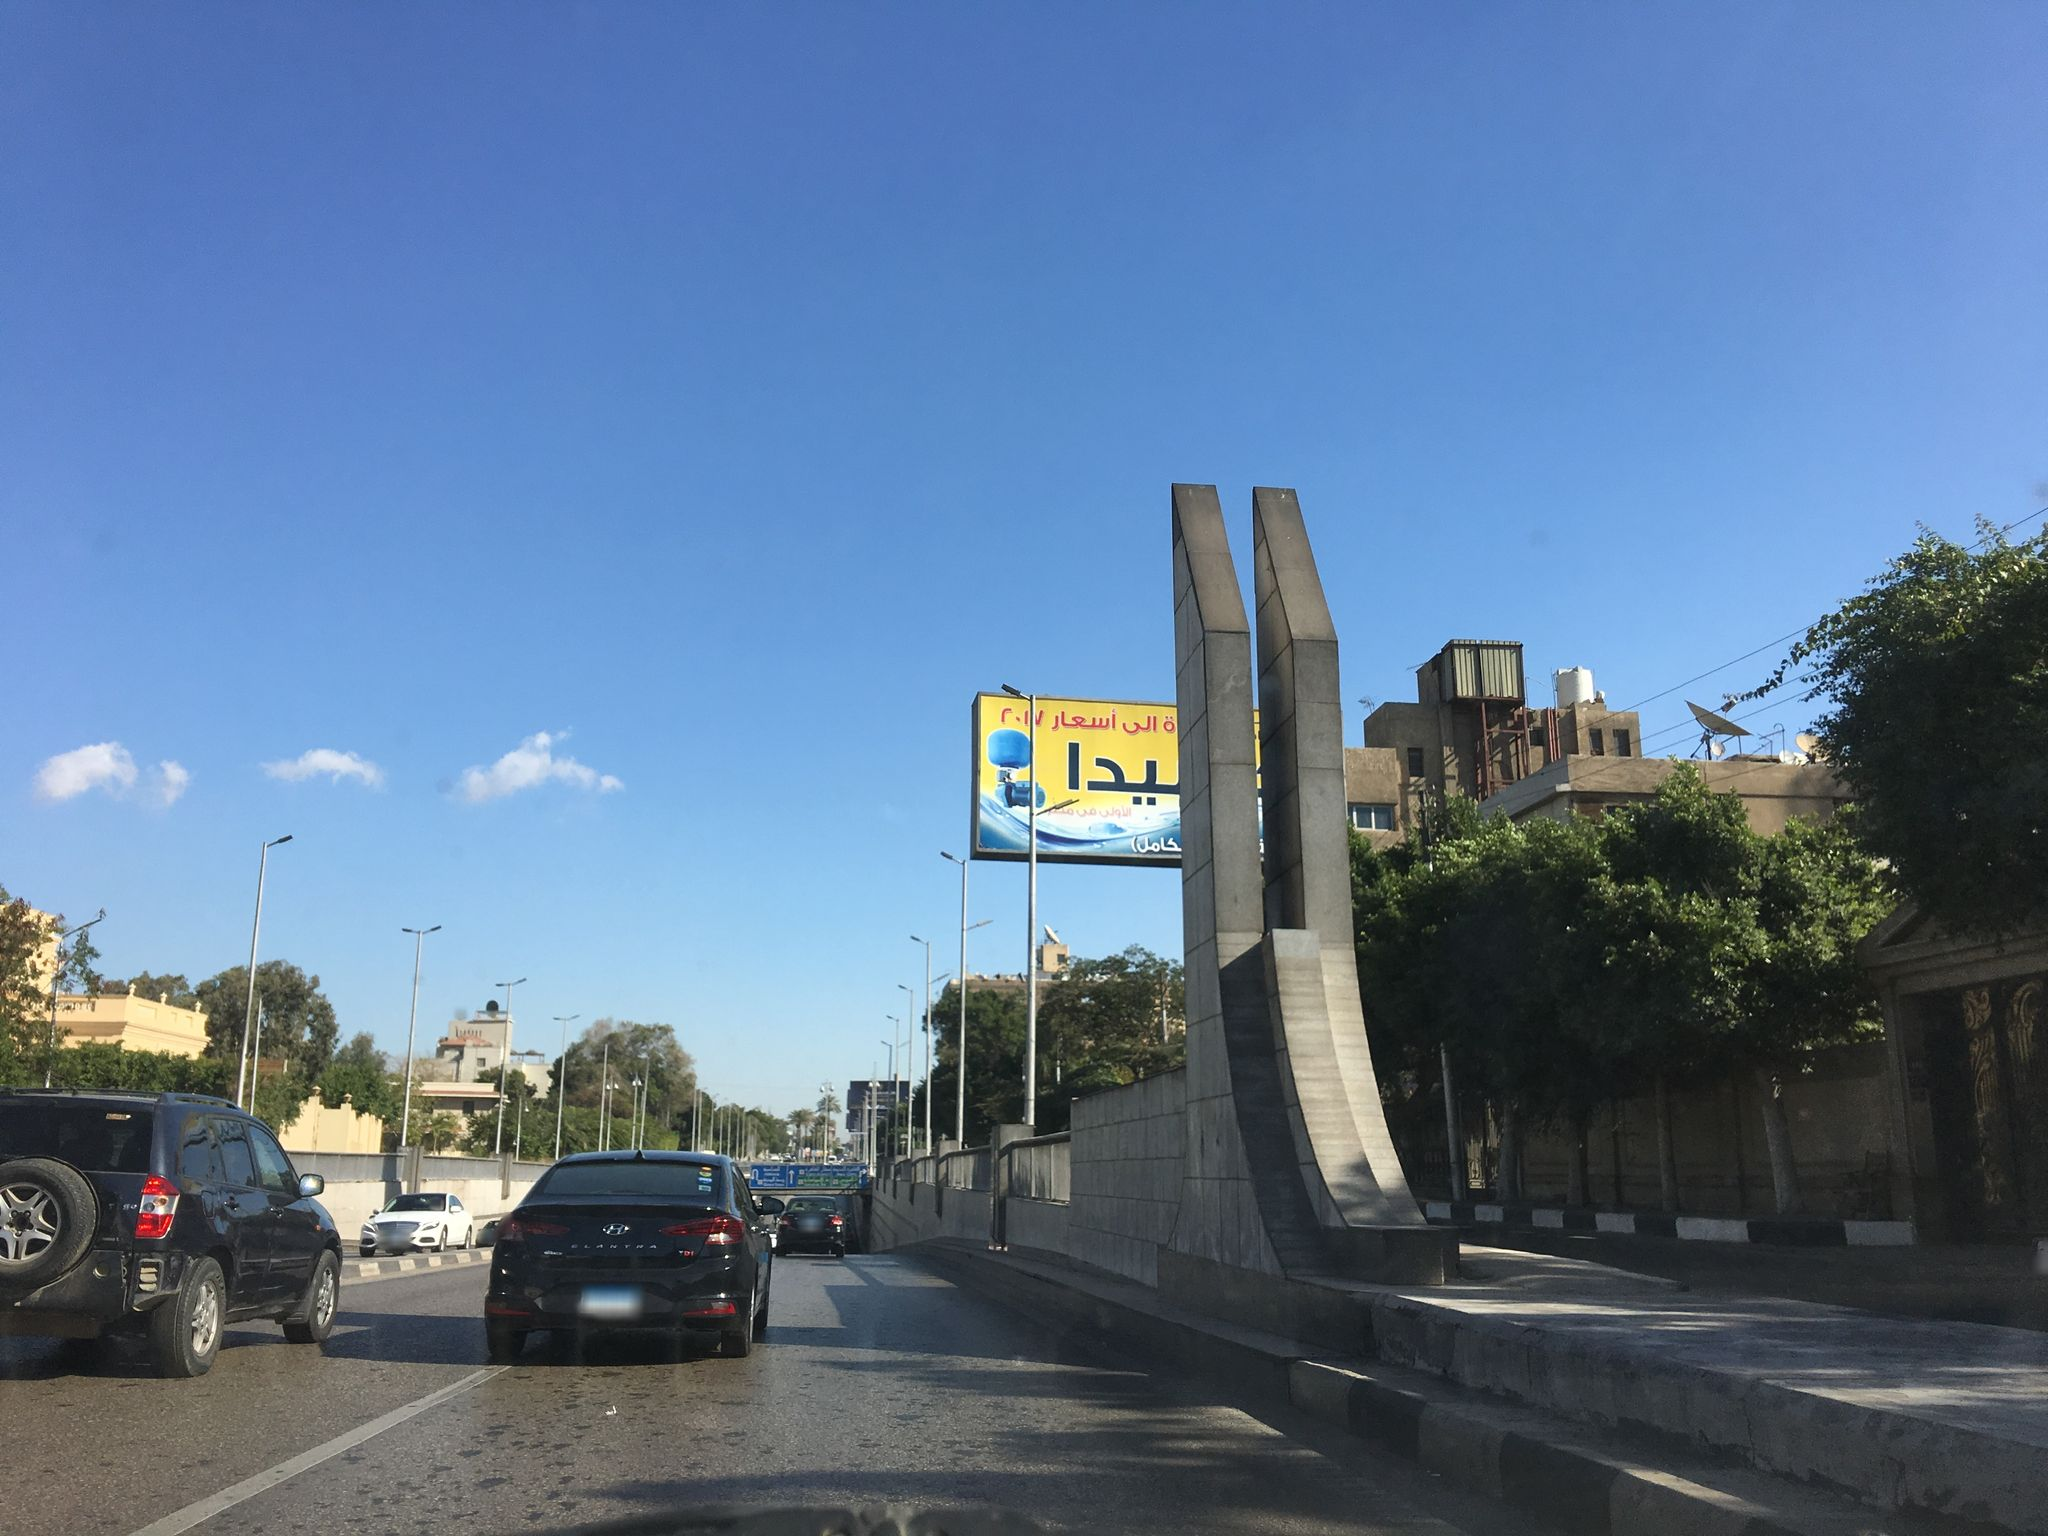car: (0, 1083, 348, 1379), (479, 1146, 785, 1359), (356, 1192, 472, 1255), (769, 1196, 847, 1257)
